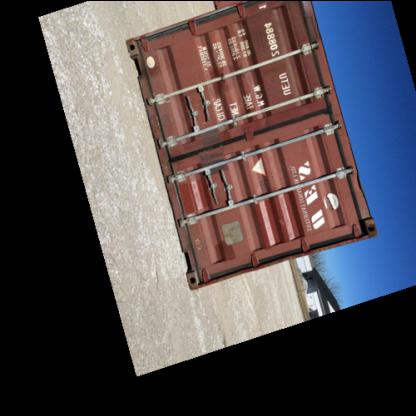Damage: (196, 122, 230, 181), (297, 7, 327, 46), (188, 229, 210, 257), (350, 169, 368, 199), (274, 210, 294, 230), (326, 192, 340, 214), (262, 110, 276, 129)
